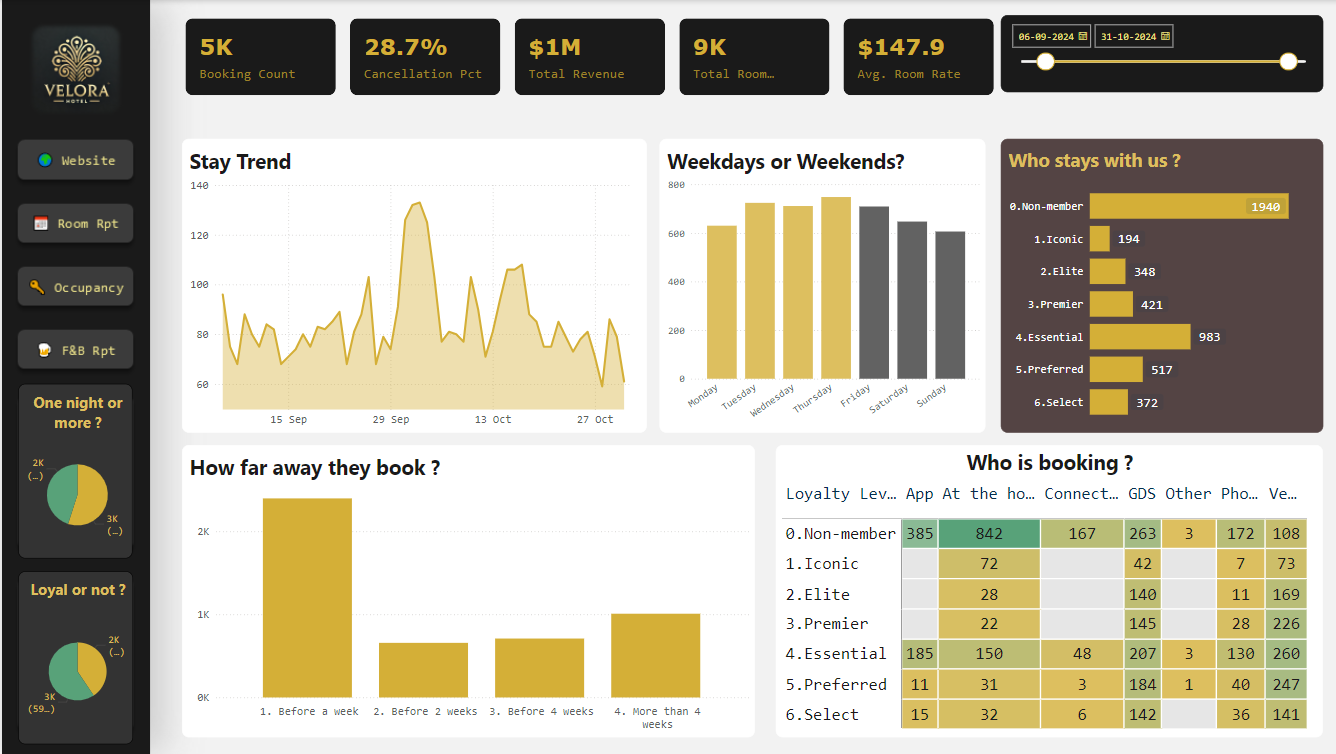

What the dashboard file says about the page in this screenshot:
{"tool":"powerbi","page":{"name":"Bookings Report BLANK","canvas":[1920,1080],"ordinal":0},"visuals":[{"type":"cardVisual","fields":{"Data":["bookings.Booking Count","bookings.Cancellation Pct","bookings.Total Revenue","bookings.Total Room Nights","bookings.Avg. Room Rate"]},"box":[258,22,1168,120],"z":0},{"type":"lineChart","title":"Stay Trend","fields":{"Category":["bookings.Stay Date"],"Y":["bookings.Booking Count"]},"box":[257.5,199.1,664.4,419.8],"z":1000},{"type":"slicer","fields":{"Values":["bookings.Stay Date"]},"box":[1426.2,21.6,461,110.4],"z":2000},{"type":"clusteredColumnChart","title":"Weekdays or Weekends?","fields":{"Category":["bookings.Day Name"],"Y":["bookings.Booking Count"]},"box":[939.2,199.1,465.3,419.8],"z":3000},{"type":"clusteredBarChart","title":"Who stays with us ?","fields":{"Category":["bookings.Loyalty Level"],"Y":["bookings.Booking Count"]},"box":[1426.2,199.1,461,419.8],"z":4000},{"type":"clusteredColumnChart","title":"How far away they book ?","fields":{"Category":["bookings.How far away bucket"],"Y":["bookings.Booking Count"]},"box":[257.5,636.3,818,417.7],"z":5000},{"type":"pivotTable","title":"Who is booking ?","fields":{"Rows":["bookings.Loyalty Level"],"Columns":["bookings.Booking Channel"],"Values":["bookings.Booking Count"]},"box":[1105.9,636.3,781.3,417.7],"z":6000},{"type":"pieChart","title":"One night or more ?","fields":{"Y":["bookings.Multi-night booking count","bookings.Single night booking count"]},"box":[23.4,548.3,163.6,249.9],"z":6001},{"type":"pieChart","title":"Loyal or not ?","fields":{"Y":["bookings.Not Loyal Customer Booking Count","bookings.Loyal Customer Booking Count"]},"box":[23.1,816.7,164.1,247.4],"z":6002}]}

Visuals, with their boxes on the page's 1920x1080 design canvas (x1, y1, x2, y2). These are canvas units, not pixel positions in the 1336x754 screenshot, which may show the page scaled, cropped or inside an application window:
cardVisual - bookings.Booking Count x bookings.Cancellation Pct: <region>258, 22, 1426, 142</region>
"Stay Trend" lineChart: <region>258, 199, 922, 619</region>
slicer - bookings.Stay Date: <region>1426, 22, 1887, 132</region>
"Weekdays or Weekends?" clusteredColumnChart: <region>939, 199, 1404, 619</region>
"Who stays with us ?" clusteredBarChart: <region>1426, 199, 1887, 619</region>
"How far away they book ?" clusteredColumnChart: <region>258, 636, 1076, 1054</region>
"Who is booking ?" pivotTable: <region>1106, 636, 1887, 1054</region>
"One night or more ?" pieChart: <region>23, 548, 187, 798</region>
"Loyal or not ?" pieChart: <region>23, 817, 187, 1064</region>
